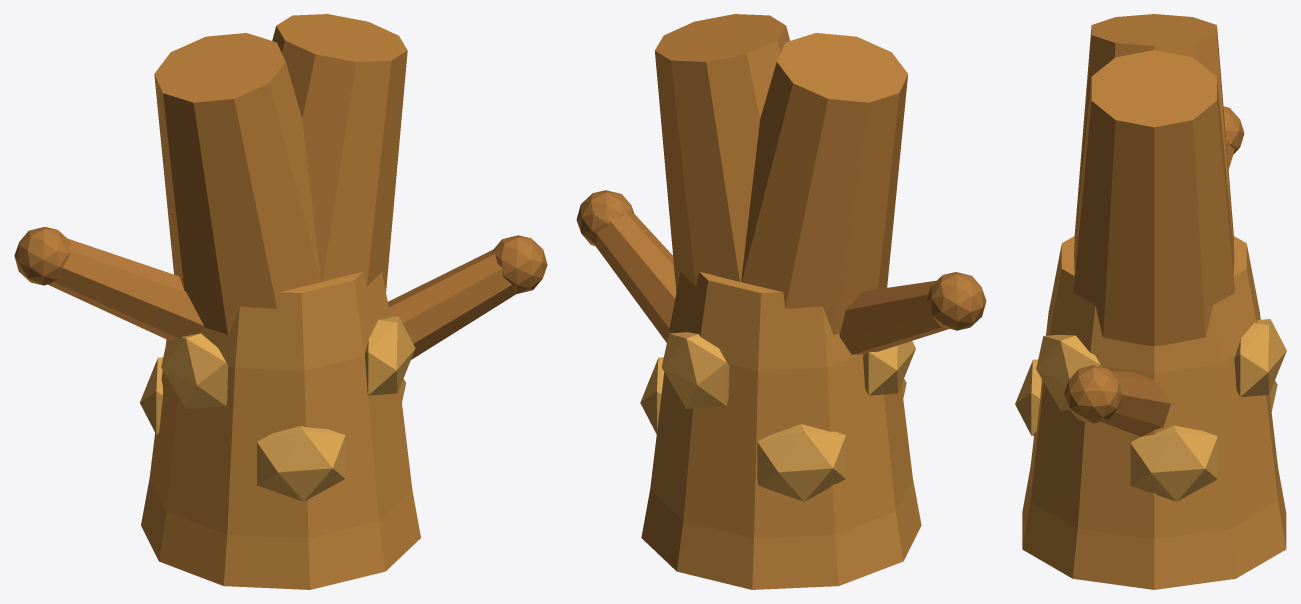
File: MapleTrunk.obj
3 renders of one model, left to right at view 1: azimuth 30°, elevation 25°; view 2: azimuth 150°, elevation 25°; view 3: azimuth 270°, elevation 25°, orthographic.
Visible parts, largest first — view 1: MapleTrunk_MapleLimbs, MapleTrunk_MapleBark, MapleTrunk_MapleStubs, MapleTrunk_MaplePlates; view 2: MapleTrunk_MapleLimbs, MapleTrunk_MapleBark, MapleTrunk_MapleStubs, MapleTrunk_MaplePlates; view 3: MapleTrunk_MapleBark, MapleTrunk_MapleLimbs, MapleTrunk_MaplePlates, MapleTrunk_MapleStubs.
Part boxes in pixels (x1=…): MapleTrunk_MapleLimbs: x1=154, y1=14, x2=407, y2=334; MapleTrunk_MapleBark: x1=141, y1=272, x2=420, y2=589; MapleTrunk_MapleStubs: x1=14, y1=227, x2=547, y2=359; MapleTrunk_MaplePlates: x1=140, y1=316, x2=415, y2=501; MapleTrunk_MapleLimbs: x1=654, y1=14, x2=907, y2=334; MapleTrunk_MapleBark: x1=641, y1=271, x2=921, y2=589; MapleTrunk_MapleStubs: x1=576, y1=190, x2=986, y2=354; MapleTrunk_MaplePlates: x1=640, y1=332, x2=915, y2=501; MapleTrunk_MapleBark: x1=1022, y1=236, x2=1286, y2=589; MapleTrunk_MapleLimbs: x1=1073, y1=14, x2=1234, y2=346; MapleTrunk_MaplePlates: x1=1015, y1=319, x2=1286, y2=501; MapleTrunk_MapleStubs: x1=1064, y1=106, x2=1244, y2=436.
Bounding box in the file's own units: 3.04 × 3.07 × 1.57.
